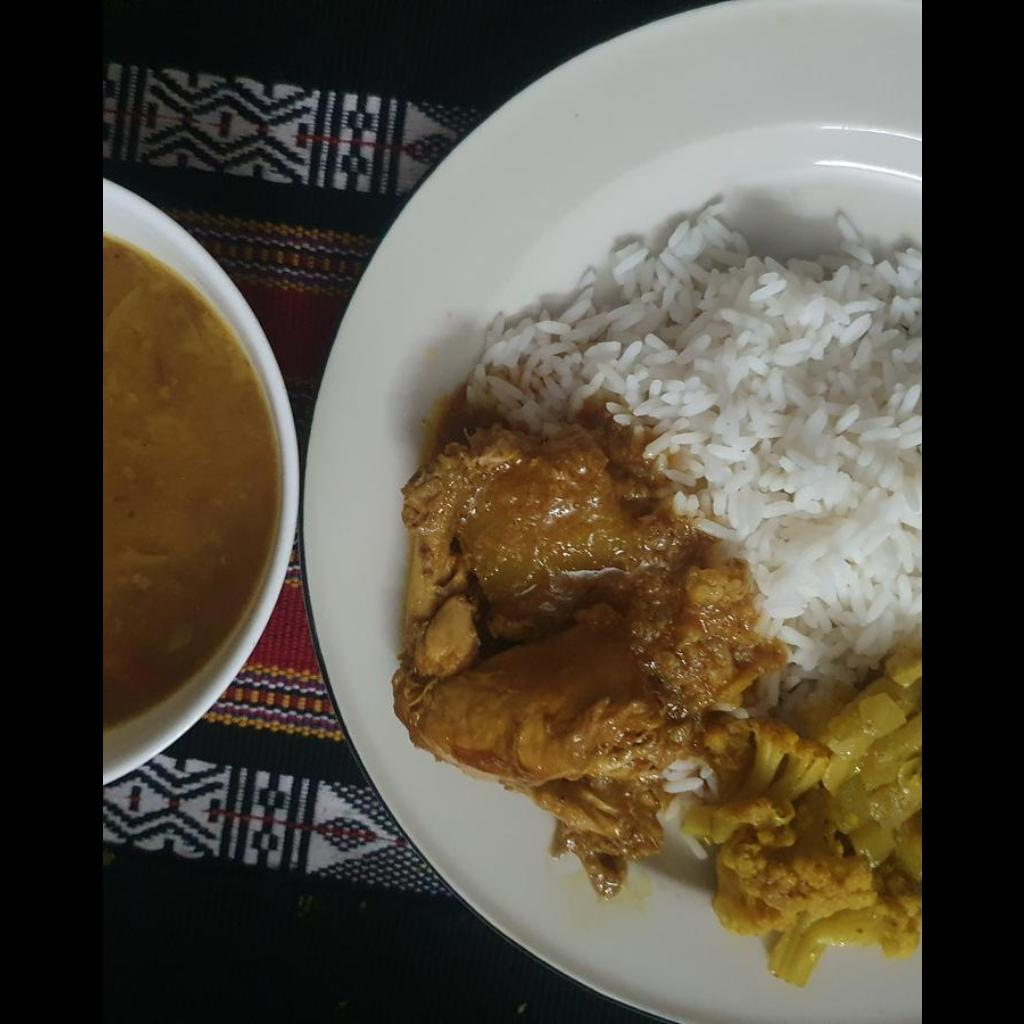chicken: (398, 416, 791, 895)
daal: (102, 235, 279, 726)
rice: (470, 198, 920, 672)
vaji: (669, 655, 919, 994)
